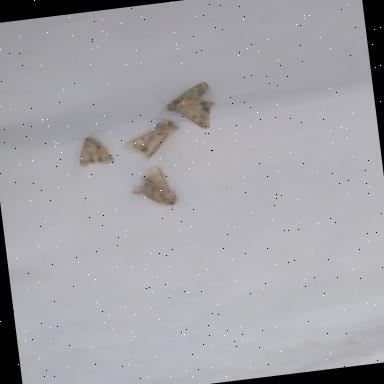abw: (119, 112, 194, 164), (122, 162, 182, 222), (154, 82, 219, 136), (62, 124, 116, 170)
